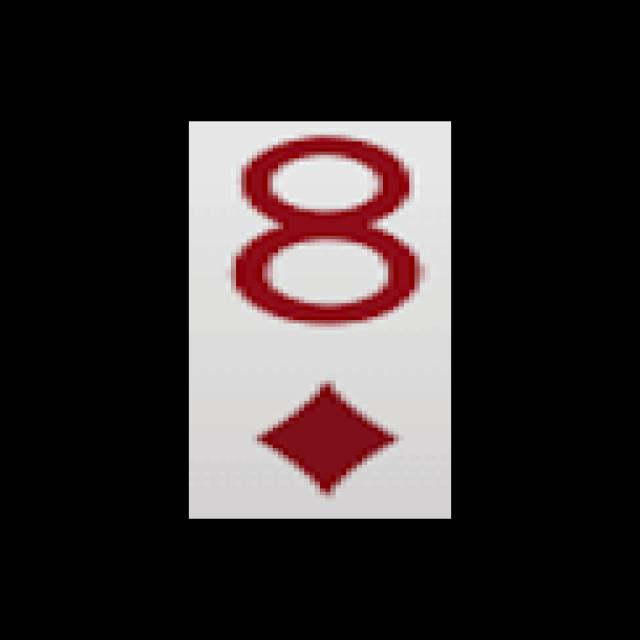8D: (204, 128, 436, 508)
